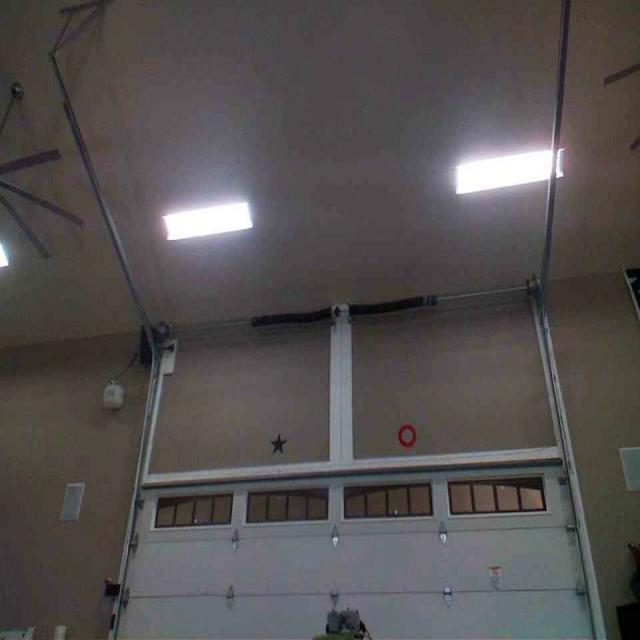ring_red: (398, 423, 415, 445)
star_black: (268, 433, 286, 454)
